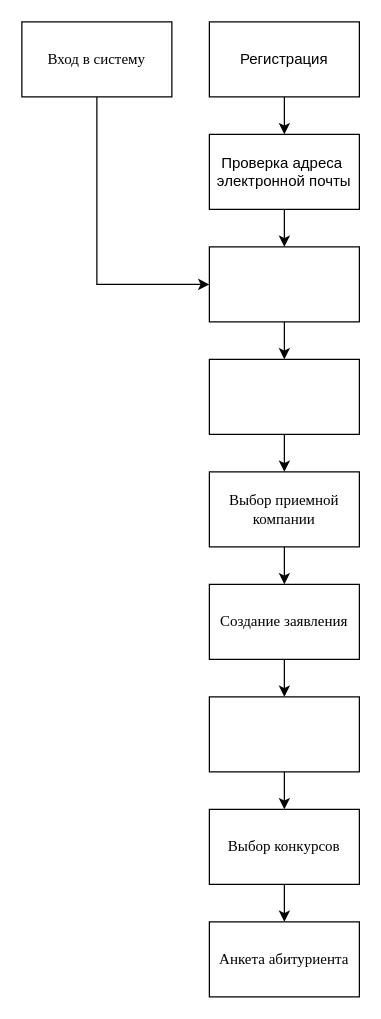
Image size: 381x1019. Some labels were removed from this diagram. The centre of each missing label's shape, as x and y in pixels:
Выбор роли: the point at 283,284
Выбор филиала: the point at 283,396
Основные данные: the point at 283,734
